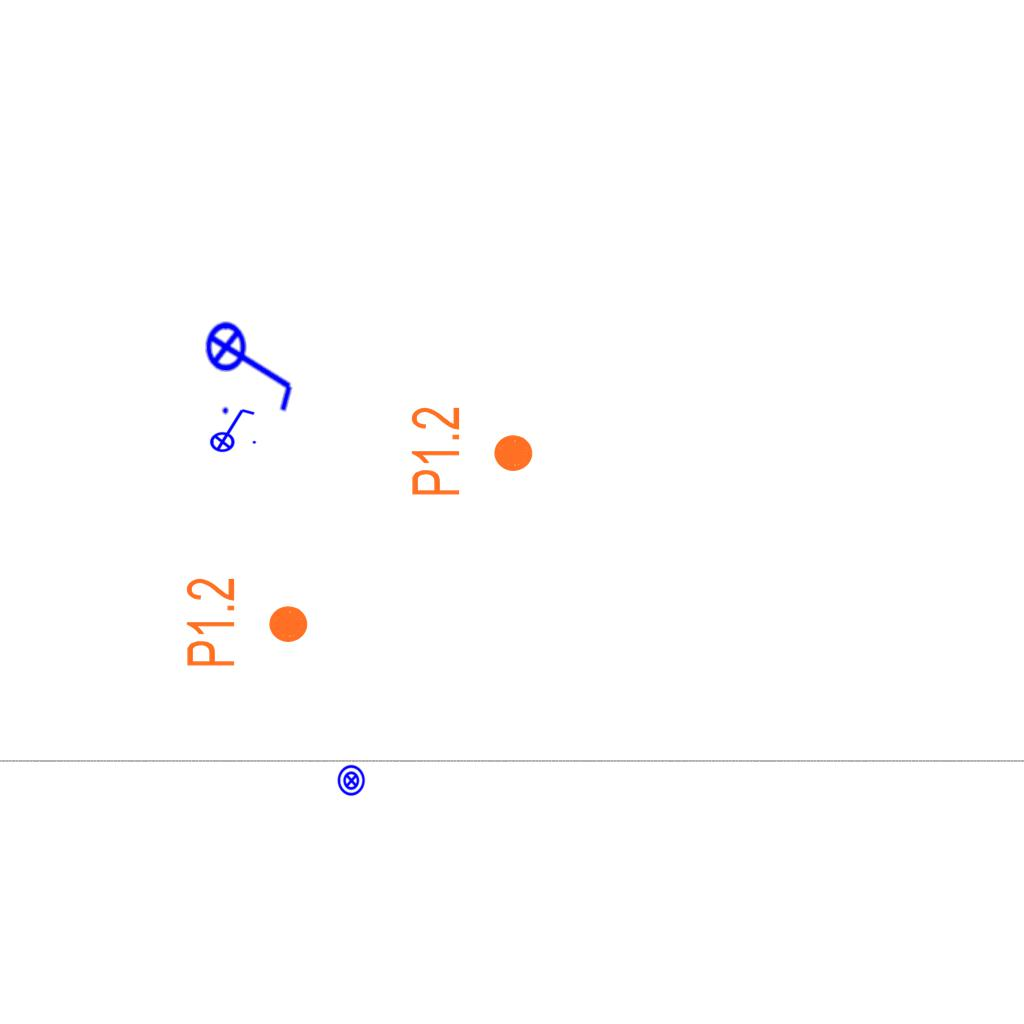Ausschalter_beleuchtet: (204, 308, 300, 420), (203, 405, 259, 453)
Downlight_LED_Einbauleuchten_Flur: (183, 576, 311, 669), (408, 405, 536, 498)
Taster_beleuchtet: (335, 764, 368, 797)
